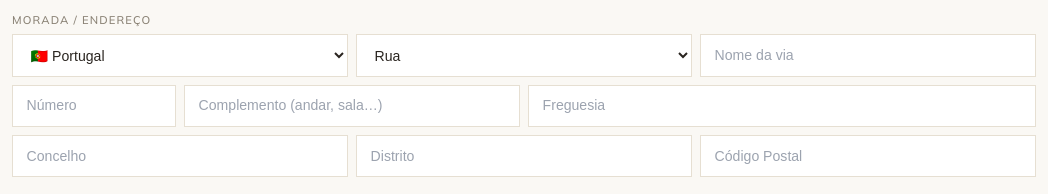
it: AddressEditor › tipo de via "Outro" muda o texto de ajuda do campo do nome
The image size is (1048, 194).
Select "Outro" in the dropdown named "Tipo de via" at (524, 56), box [356,34,692,77]
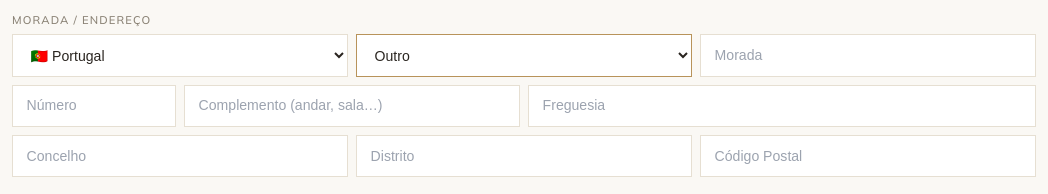
expect the field with placeholder "Morada" is shown: met, box [700,34,1036,77]
